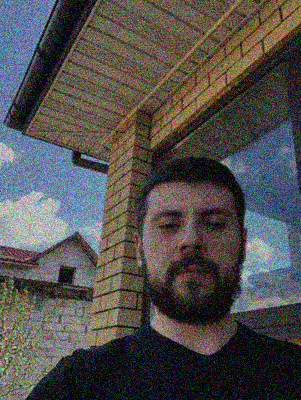without_mask: (145, 200, 240, 324)
